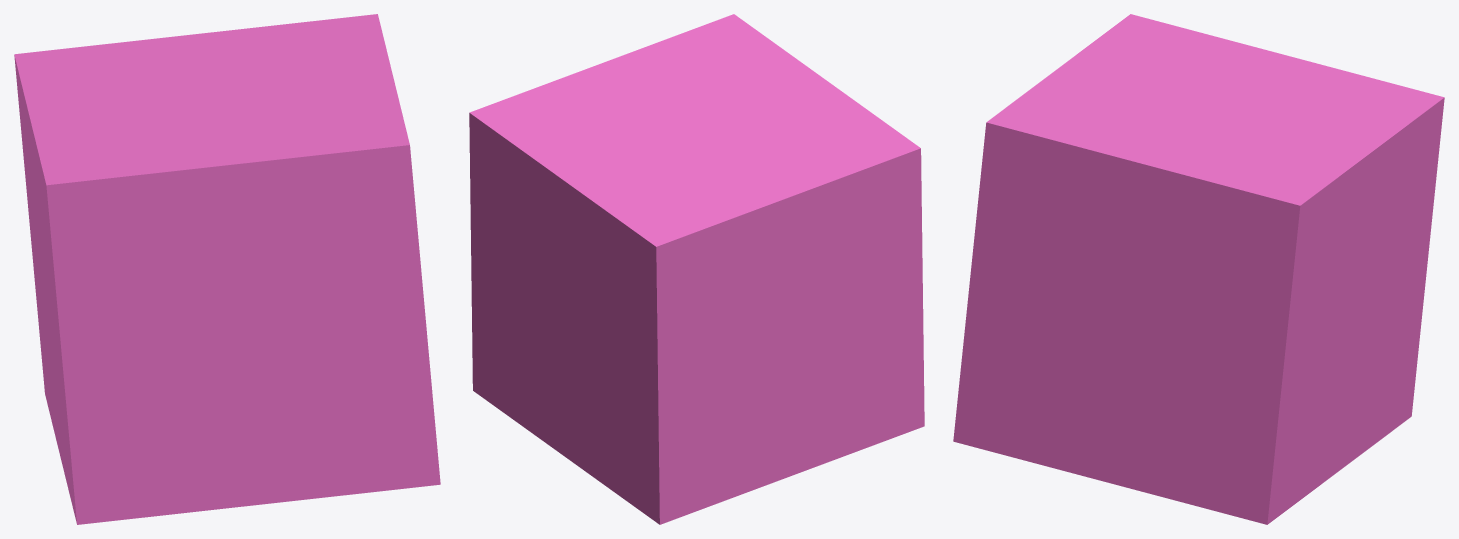
File: InfoExpo_ArchivoAldoSessa.gltf
3 views of the same model, side by side, from view 1: azimuth 30°, elevation 25°; view 2: azimuth 150°, elevation 25°; view 3: azimuth 270°, elevation 25° (orthographic). The views are drawn at different scales.
Visible parts, largest first — view 1: InfoExpo_ArchivoAldoSessa; view 2: InfoExpo_ArchivoAldoSessa; view 3: InfoExpo_ArchivoAldoSessa.
Part boxes in pixels (x1,y1,x2,y2): InfoExpo_ArchivoAldoSessa: (14,14,440,524); InfoExpo_ArchivoAldoSessa: (469,14,924,524); InfoExpo_ArchivoAldoSessa: (953,14,1444,524).
Size of the model in its own units: 0.2936 by 0.2447 by 0.3035.
